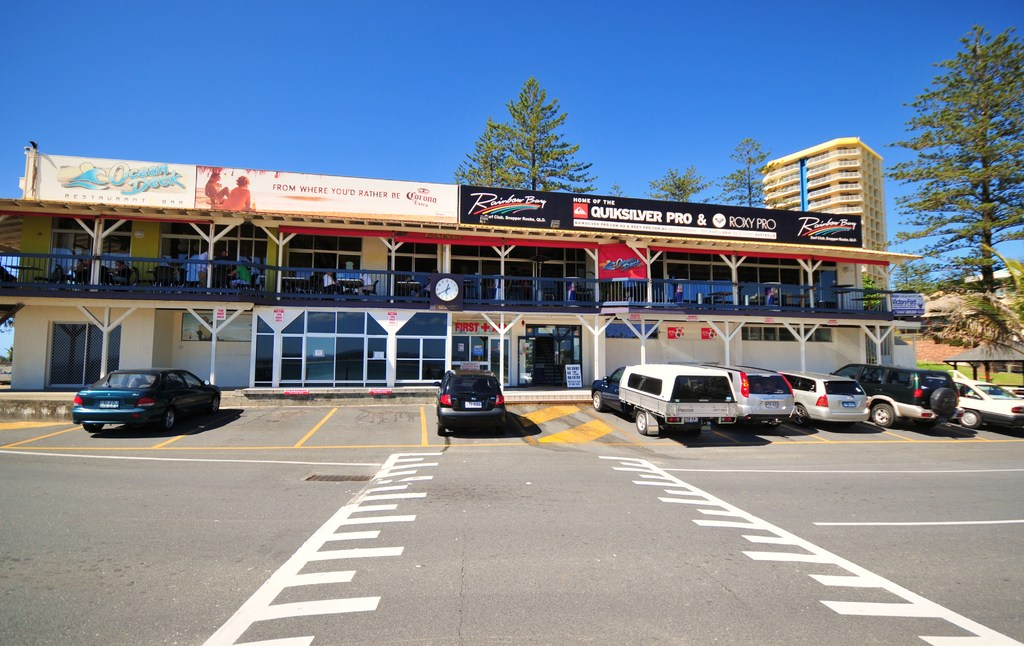Car: (66, 361, 219, 436), (589, 362, 743, 434), (828, 362, 962, 422), (711, 362, 799, 429), (436, 362, 509, 432), (780, 370, 867, 425), (956, 383, 1023, 429)
